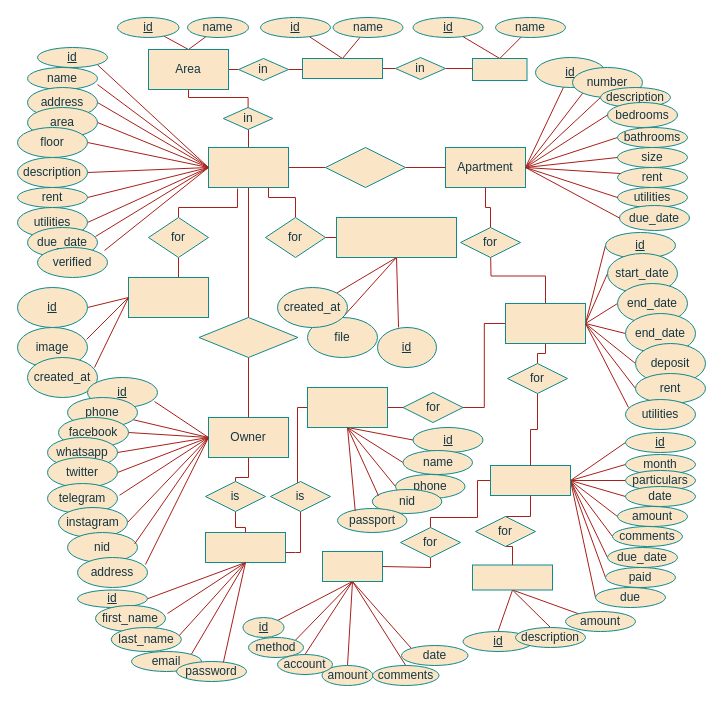
Image size: 723x703. Some labels were removed from this diagram. Each missing label, with the centre of its shape:
belongs to: point 248,337
District: point 342,68
Division: point 499,69
invoice: point 530,480
invoiceItems: point 512,577
of: point 365,167
payment: point 352,566
property: point 248,167
propertyDocument: point 396,237
propertyImage: point 168,297
tenancy: point 545,323
Tenant: point 347,407
User: point 245,547
